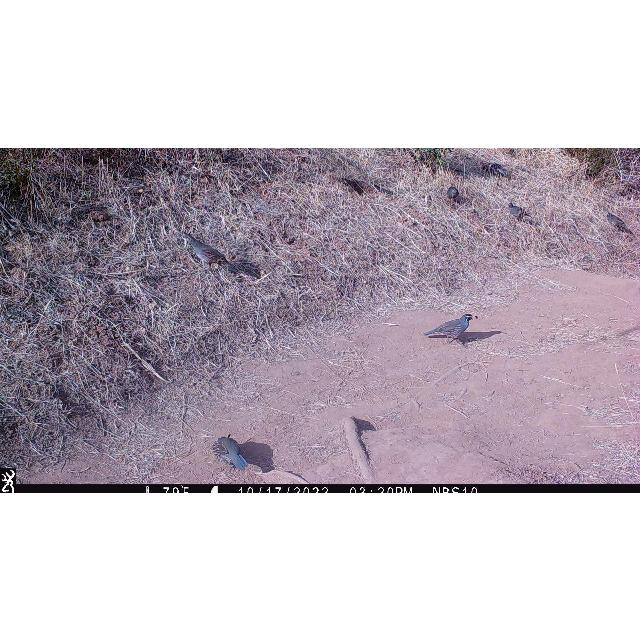animals: (424, 310, 478, 346), (185, 231, 233, 269), (210, 432, 250, 470), (606, 209, 636, 235), (508, 200, 532, 222), (445, 186, 461, 200)
